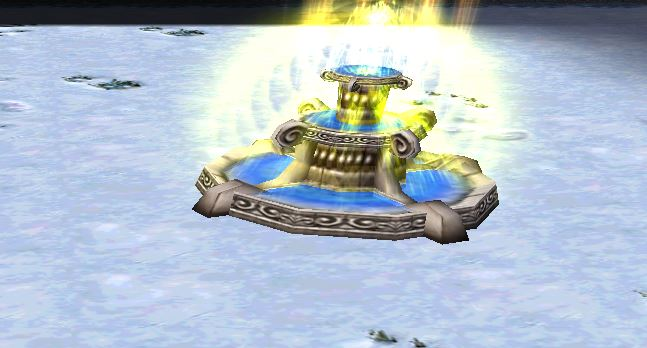sunwell: (208, 56, 503, 244)
